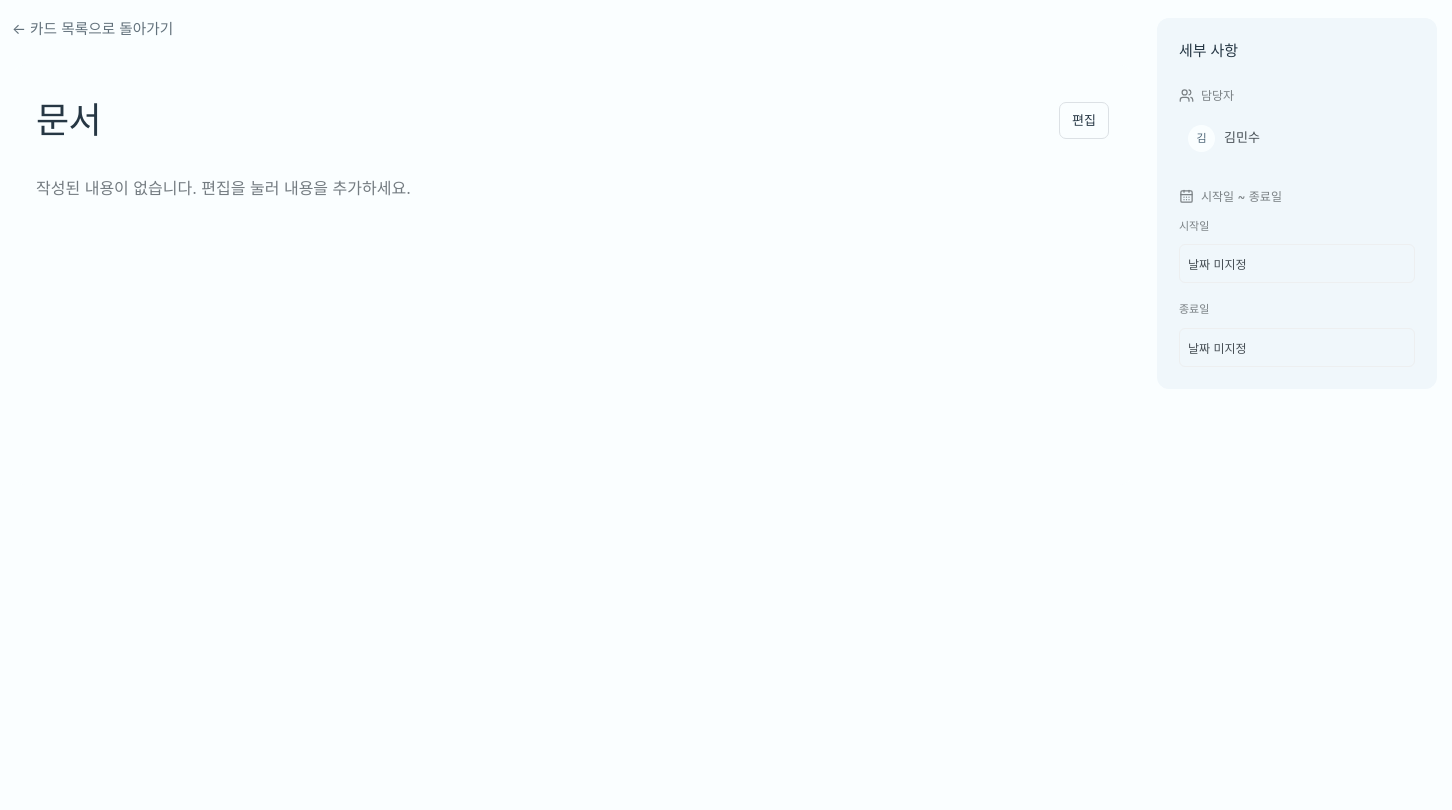
Scenario: markdown_editor › toolbar_format_굵게_ok
Click the button "편집".
click(1084, 120)  # box [1059,102,1109,139]
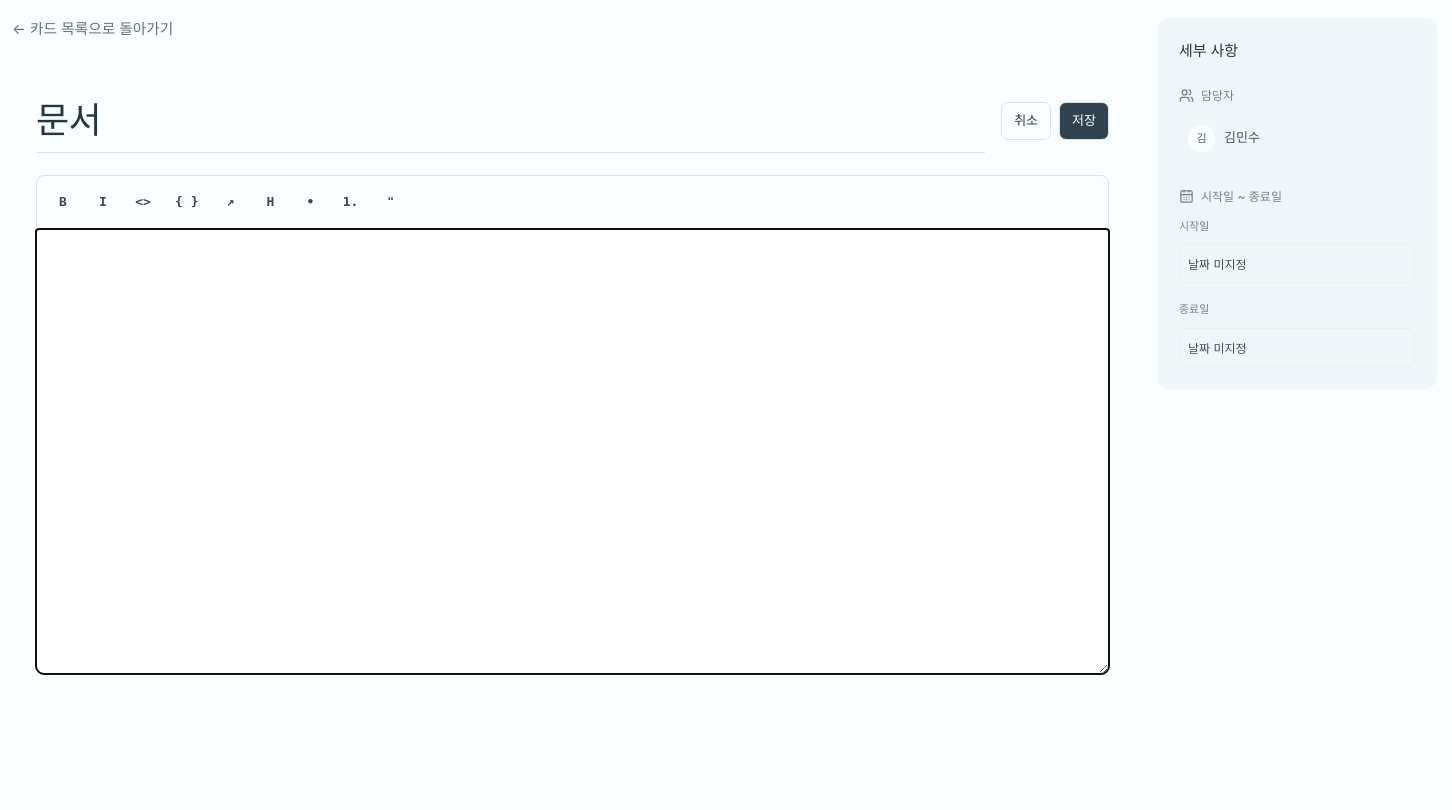
Type "word" into the text box named "Markdown 작성".
click(572, 452); type("word")  # box [36,229,1109,674]
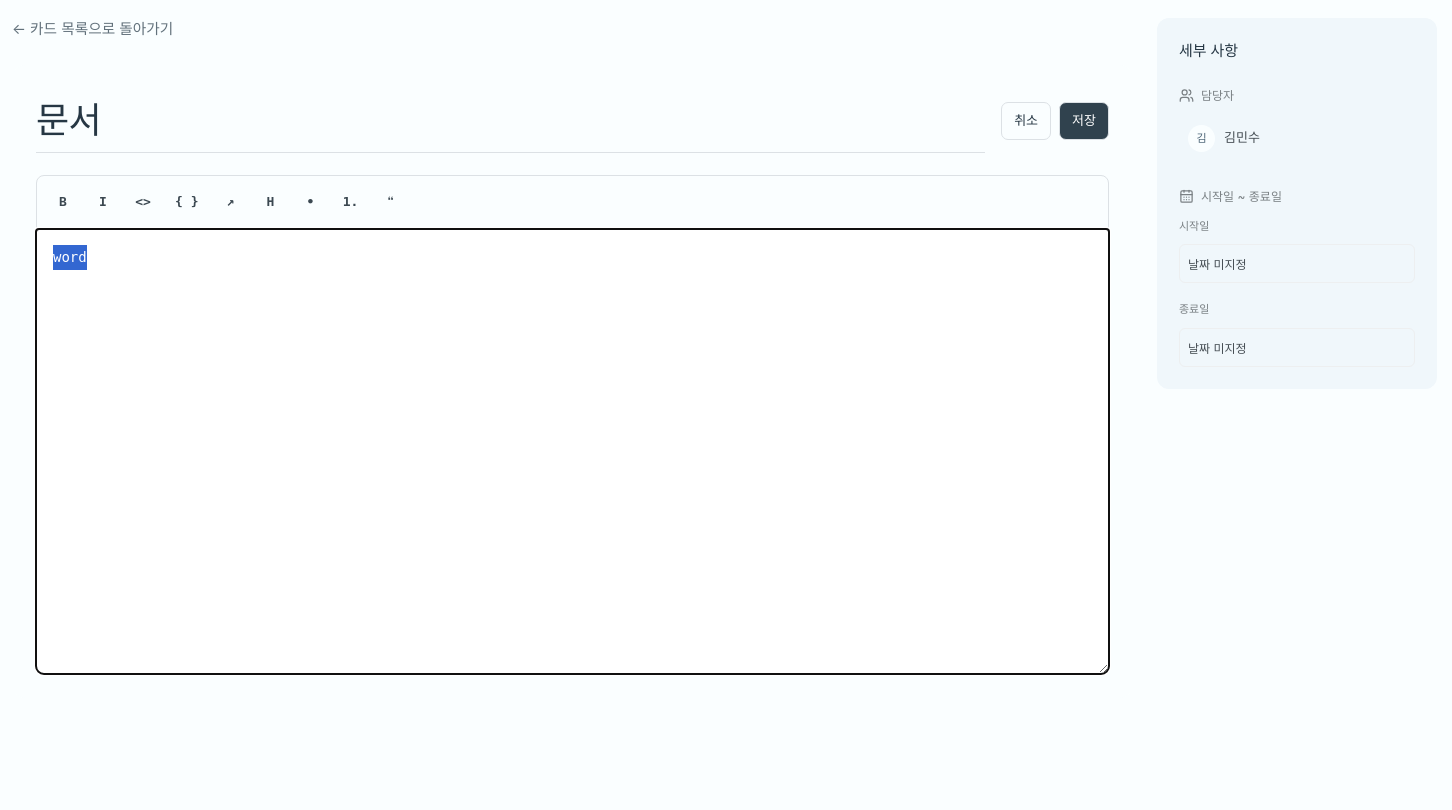
Click the button named "굵게".
click(63, 202)  # box [45,184,81,220]
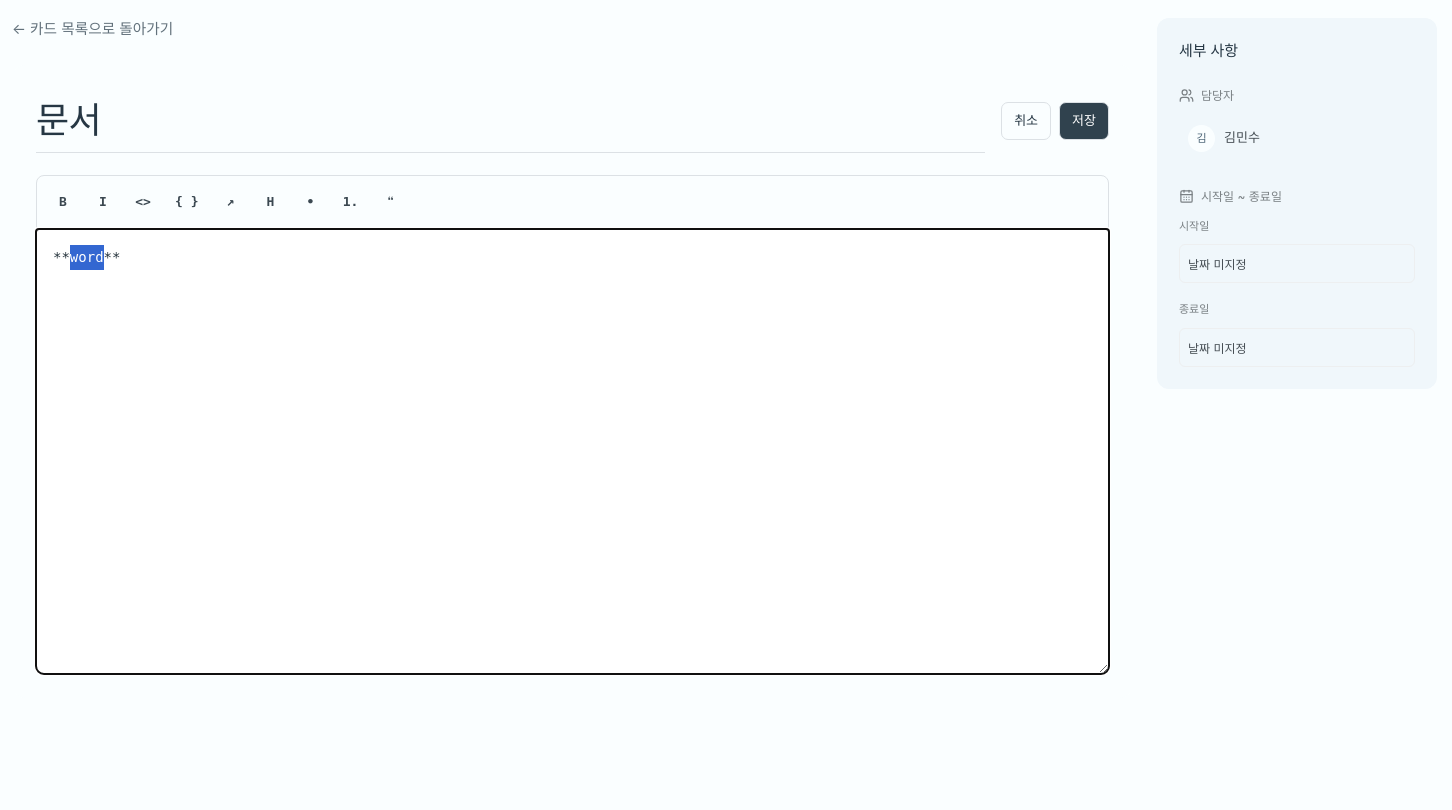
expect the text box named "Markdown 작성" holds "**word**": met, box [36,229,1109,674]
